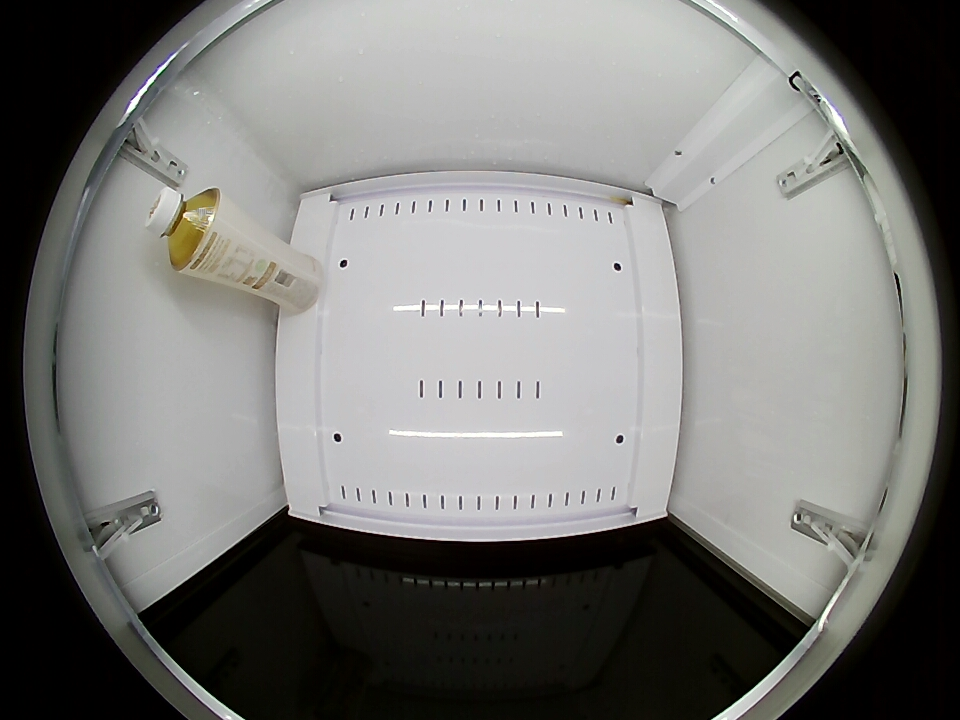rancha-2: (145, 186, 223, 272)
